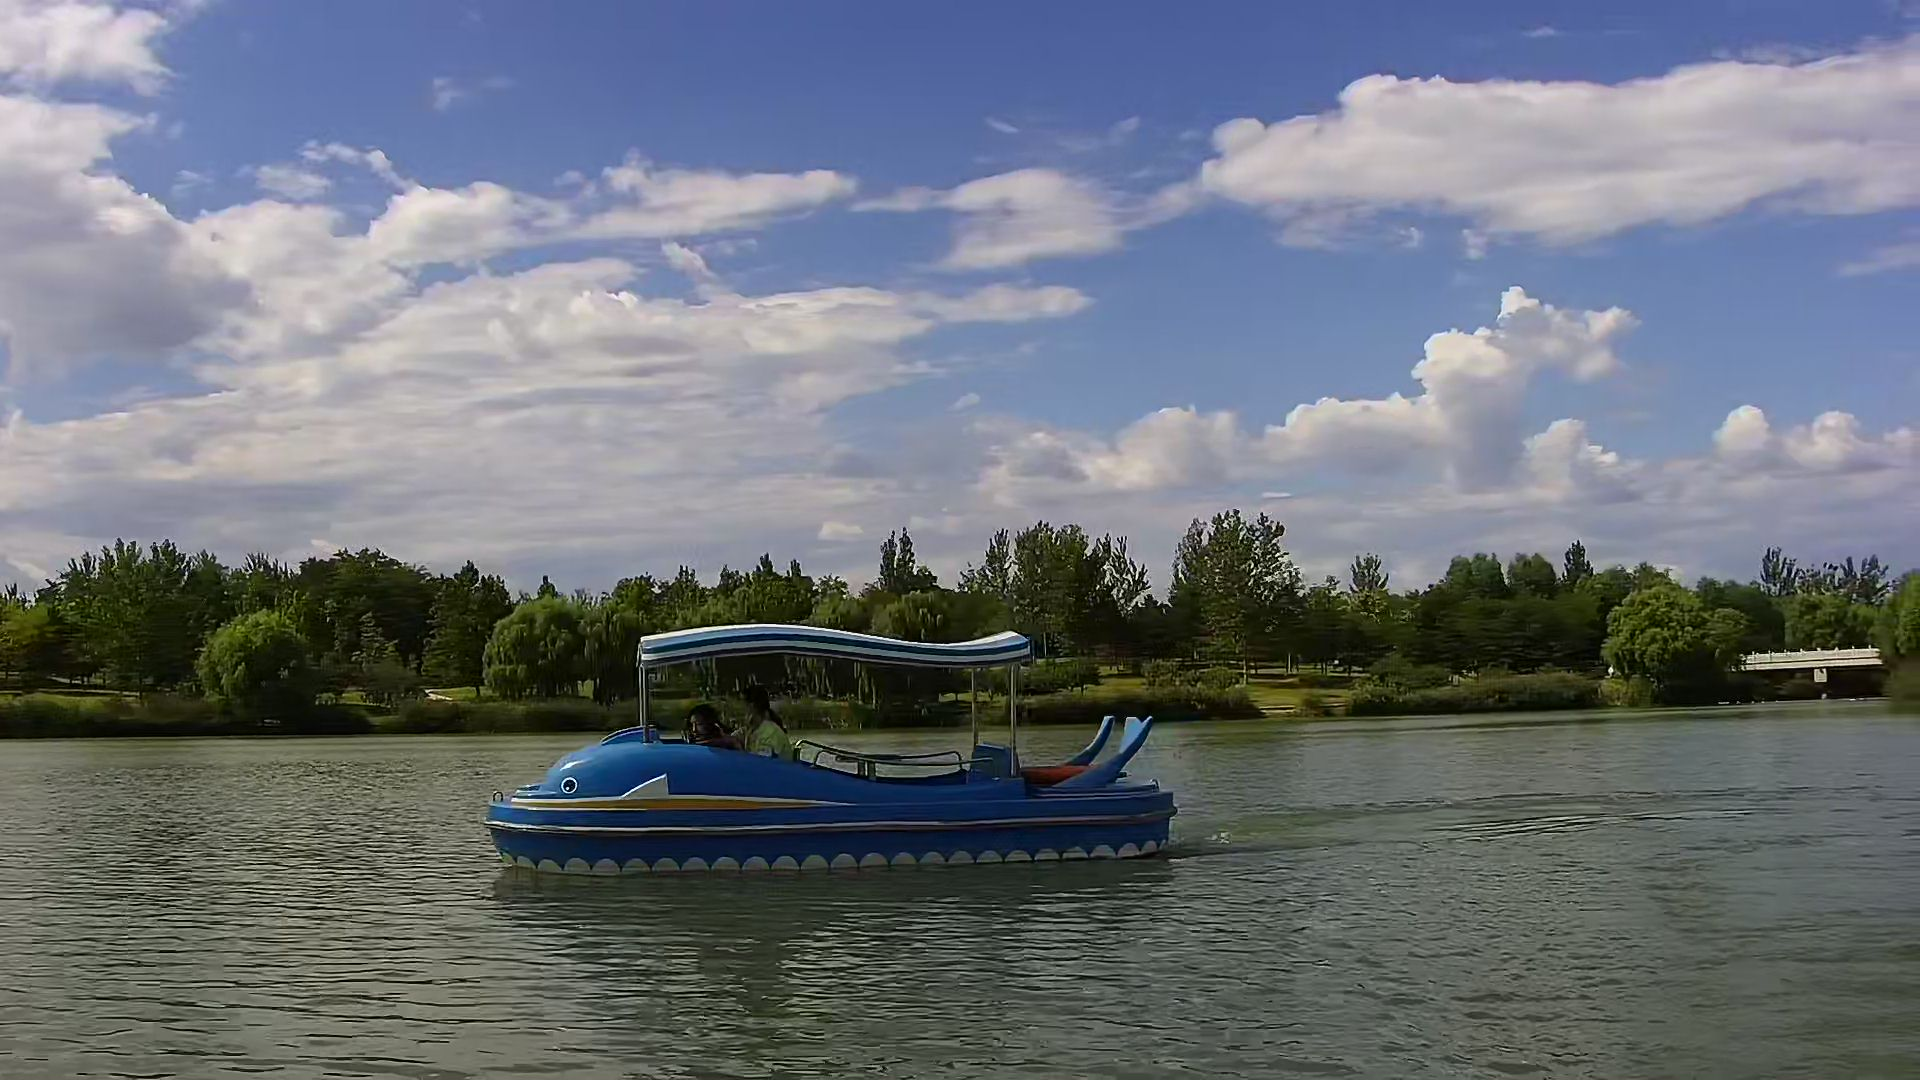boat: (488, 622, 1177, 871)
bridge: (1741, 645, 1874, 691)
person: (736, 691, 789, 756)
